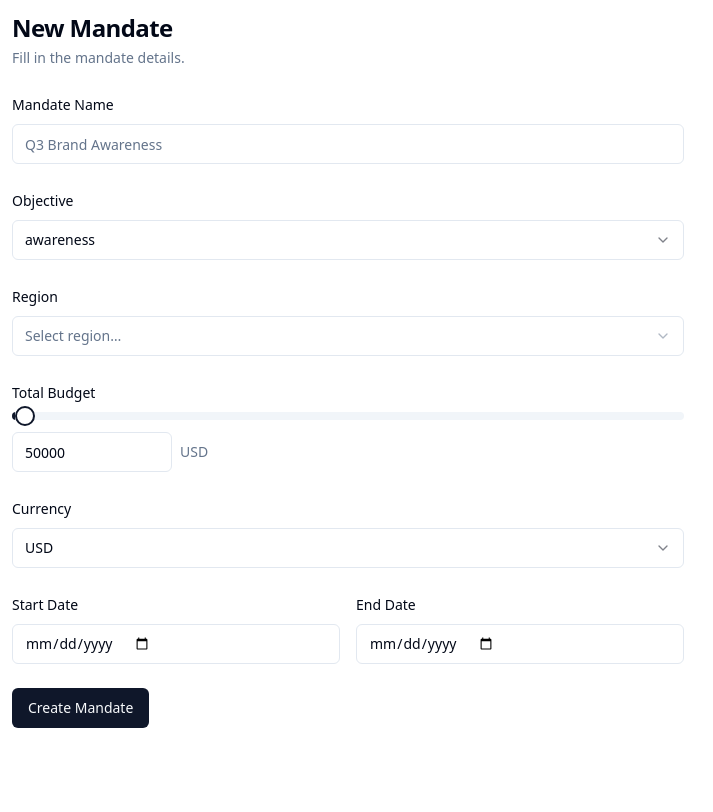
Test: MandateFormPage — cities › removes city checkboxes when their country is deselected
# Select APAC region
Click the dropdown labelled "Select region…": [73, 336] box [12,316,684,356]
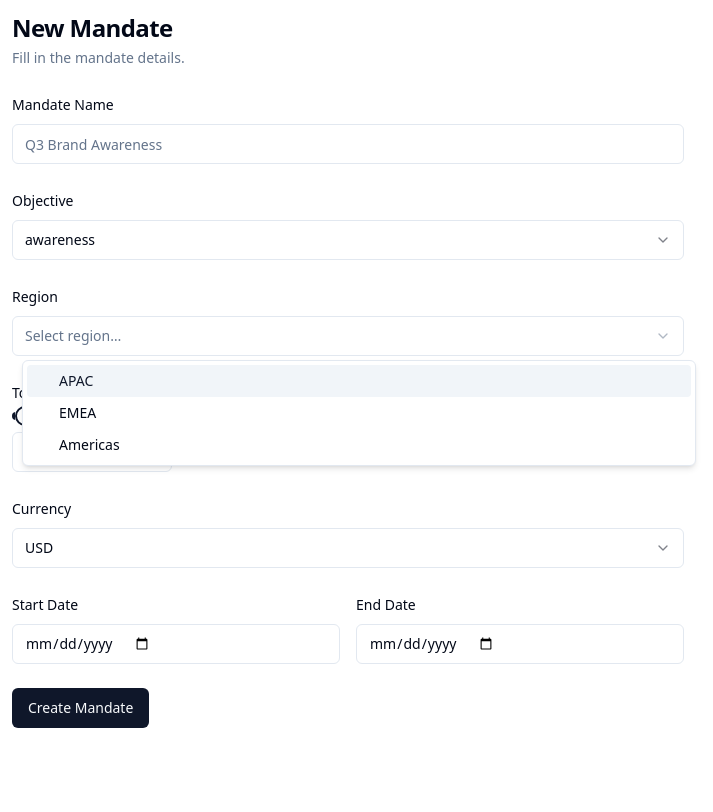
Result: the option "APAC" is shown
Click the option "APAC": [76, 380] box [27,365,691,397]
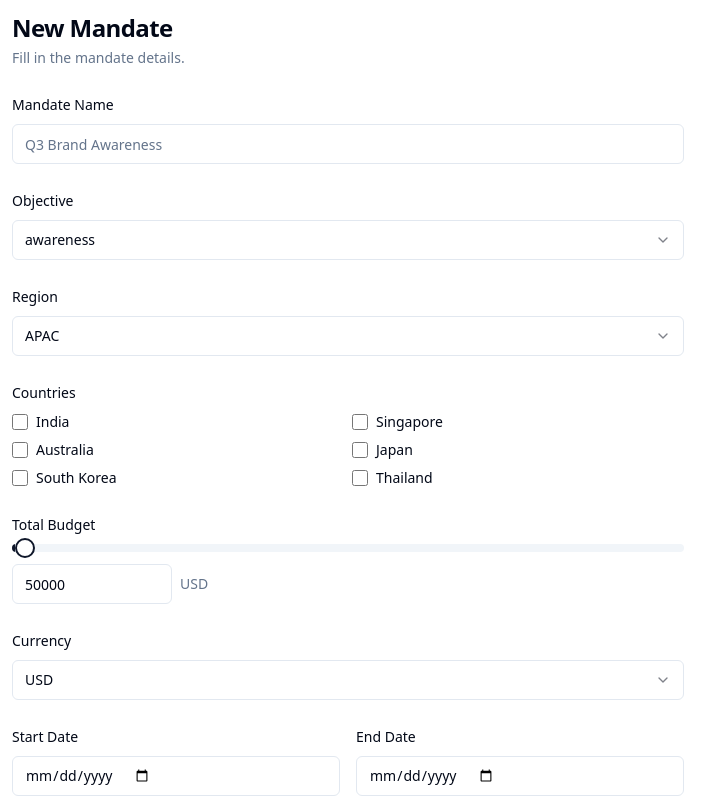
Result: the checkbox labelled "India" is shown
# Check India, then uncheck it
Click the checkbox labelled "India": [20, 422] box [12,414,28,430]
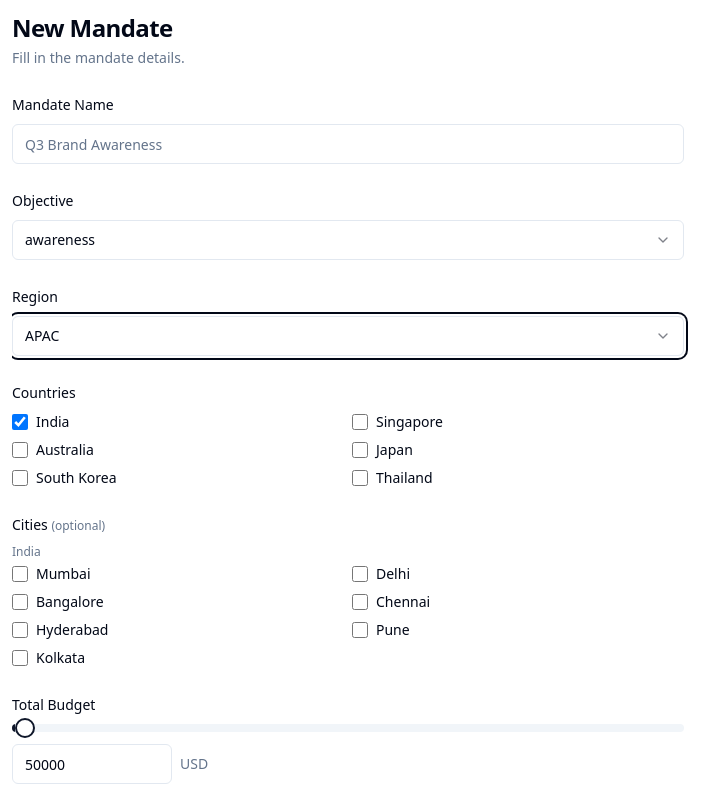
Result: the checkbox labelled "Mumbai" is shown at [12,566,28,582]
Click the checkbox labelled "India": [20, 422] box [12,414,28,430]
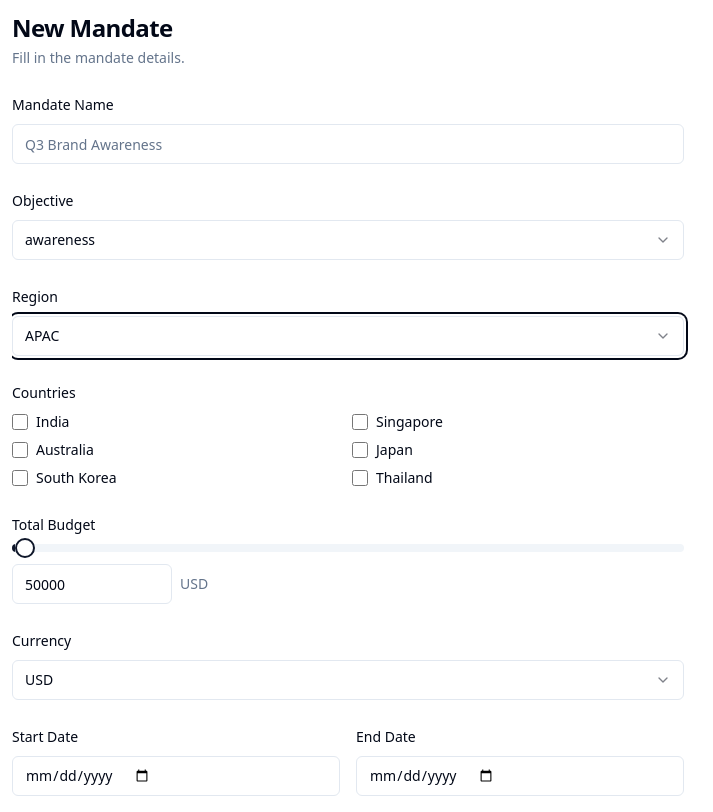
Result: the label labelled "Mumbai" is gone
